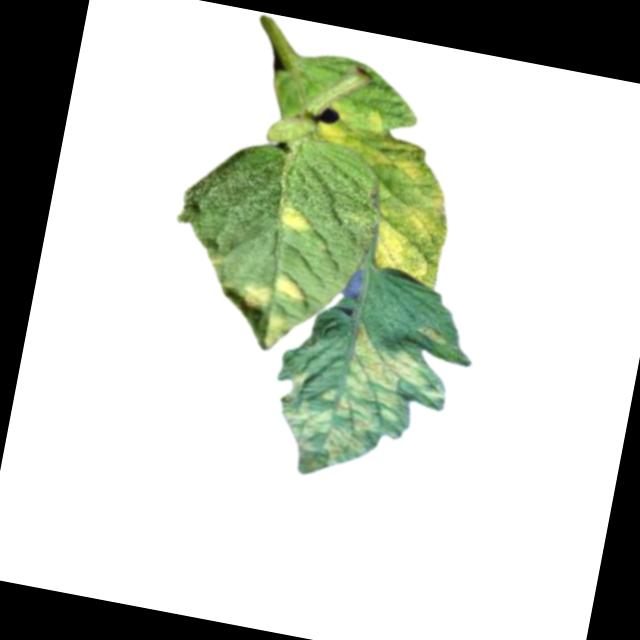Leaf_Mold: (268, 308, 456, 499), (306, 94, 454, 189), (370, 183, 457, 284), (271, 195, 317, 234), (259, 312, 294, 354), (270, 271, 309, 302), (237, 282, 275, 313)
